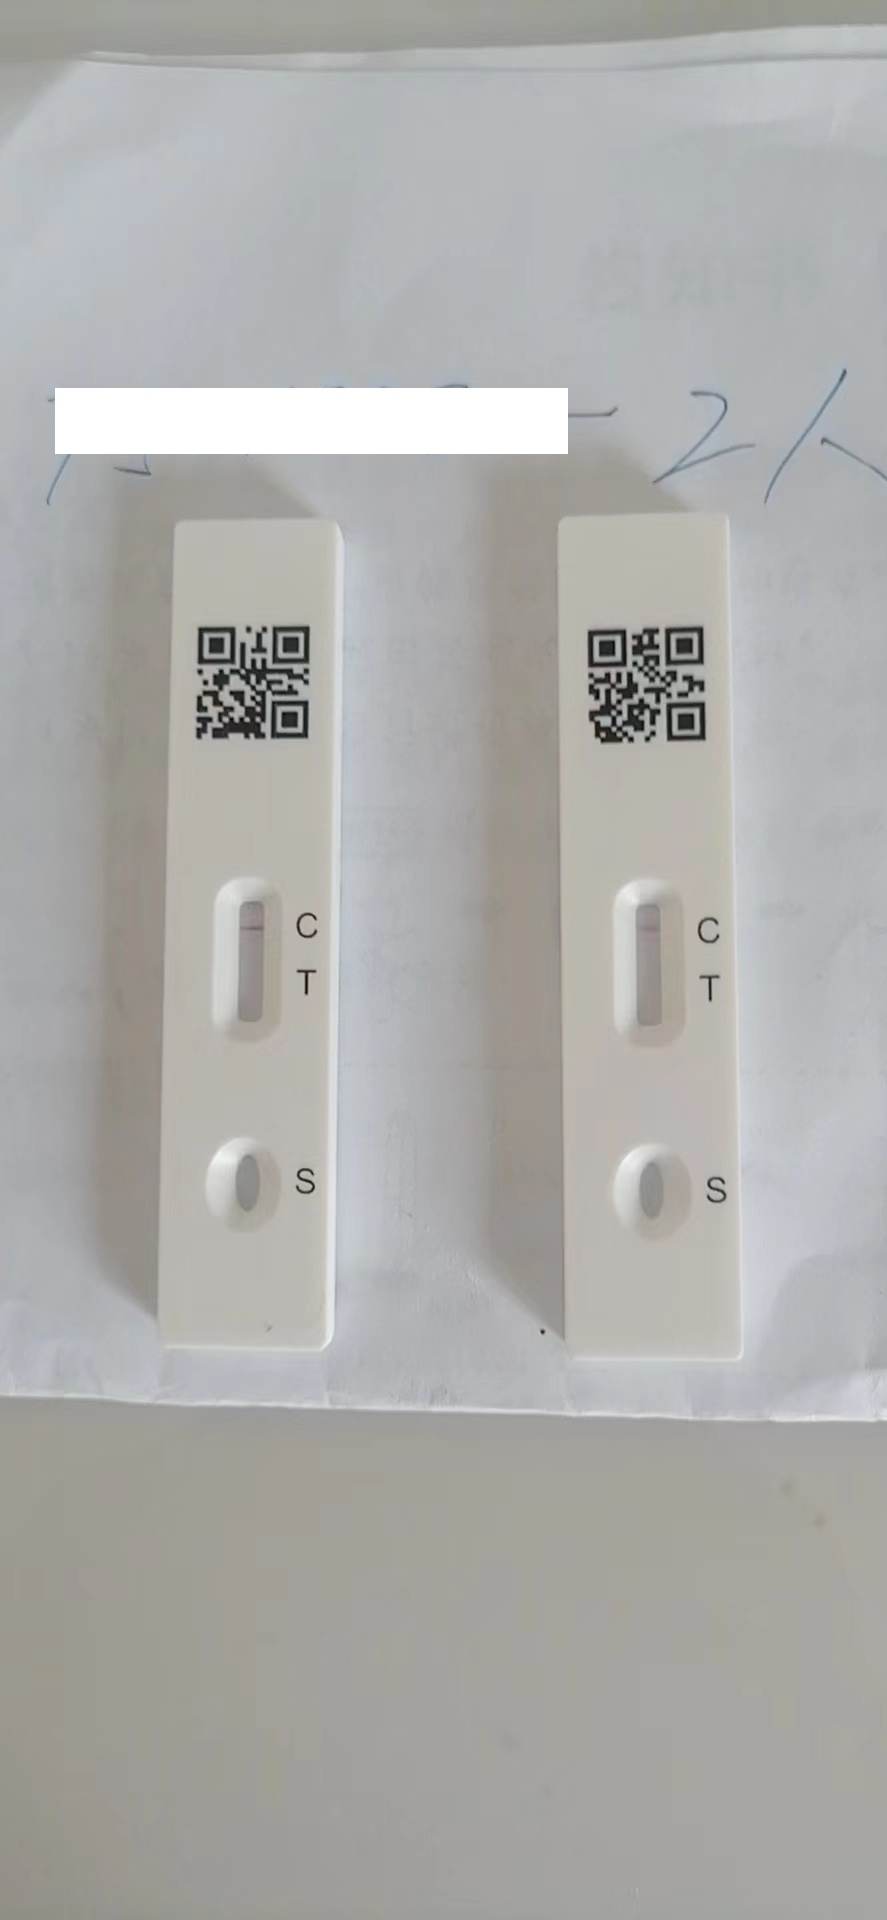negative: (611, 878, 686, 1044), (211, 877, 281, 1035)
